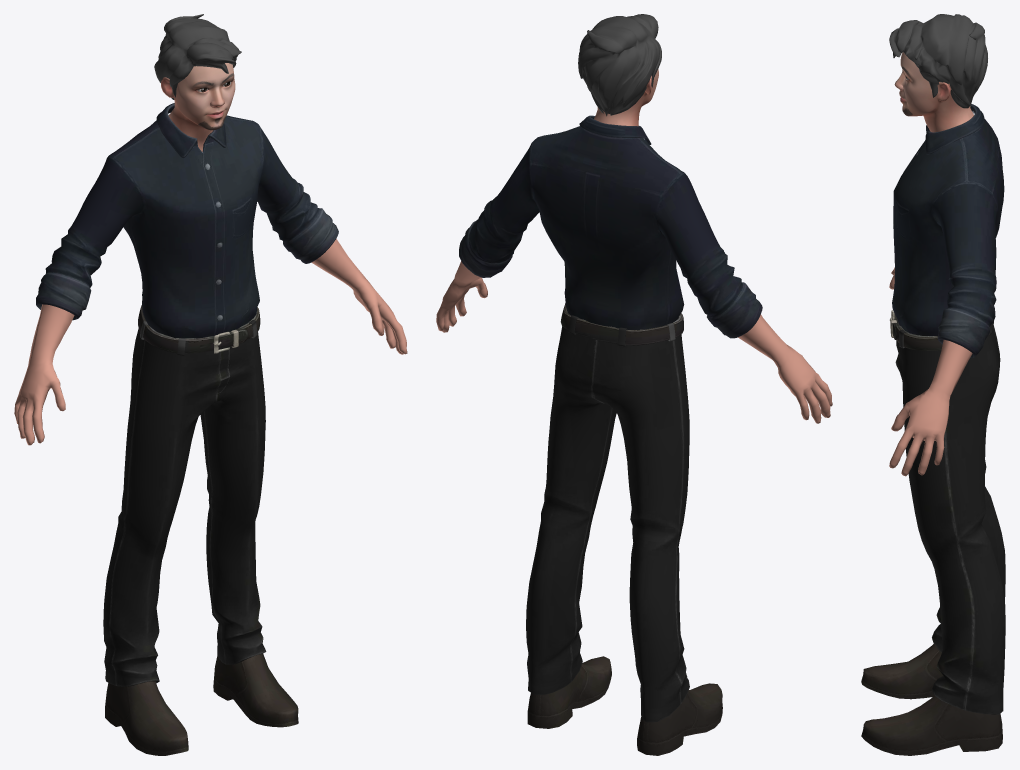
File: male model.glb
3 views of the same model, side by side, from view 1: azimuth 30°, elevation 25°; view 2: azimuth 150°, elevation 25°; view 3: azimuth 270°, elevation 25° (orthographic).
Visible parts, largest first — view 1: Wolf3D_Outfit_Bottom, Wolf3D_Outfit_Top, Wolf3D_Outfit_Footwear, Wolf3D_Body, Wolf3D_Hair, Wolf3D_Head; view 2: Wolf3D_Outfit_Bottom, Wolf3D_Outfit_Top, Wolf3D_Outfit_Footwear, Wolf3D_Hair, Wolf3D_Body, Wolf3D_Head; view 3: Wolf3D_Outfit_Bottom, Wolf3D_Outfit_Top, Wolf3D_Outfit_Footwear, Wolf3D_Hair, Wolf3D_Body, Wolf3D_Head.
Boxes of the visible parts, <box> form: Wolf3D_Outfit_Bottom: <box>103,305,266,686</box>; Wolf3D_Outfit_Top: <box>36,103,338,338</box>; Wolf3D_Outfit_Footwear: <box>105,653,298,755</box>; Wolf3D_Body: <box>14,239,407,445</box>; Wolf3D_Hair: <box>154,14,241,99</box>; Wolf3D_Head: <box>161,63,235,151</box>; Wolf3D_Outfit_Bottom: <box>526,303,689,722</box>; Wolf3D_Outfit_Top: <box>459,115,762,338</box>; Wolf3D_Outfit_Footwear: <box>527,656,722,755</box>; Wolf3D_Hair: <box>578,14,661,116</box>; Wolf3D_Body: <box>436,261,832,423</box>; Wolf3D_Head: <box>594,69,658,126</box>; Wolf3D_Outfit_Bottom: <box>889,310,1005,714</box>; Wolf3D_Outfit_Top: <box>892,104,1004,357</box>; Wolf3D_Outfit_Footwear: <box>861,644,1002,755</box>; Wolf3D_Hair: <box>889,14,987,108</box>; Wolf3D_Body: <box>889,267,972,476</box>; Wolf3D_Head: <box>894,52,973,132</box>.
Bounding box in the file's own units: 1.06 × 1.86 × 0.3489.
8 materials, 8 textured.
